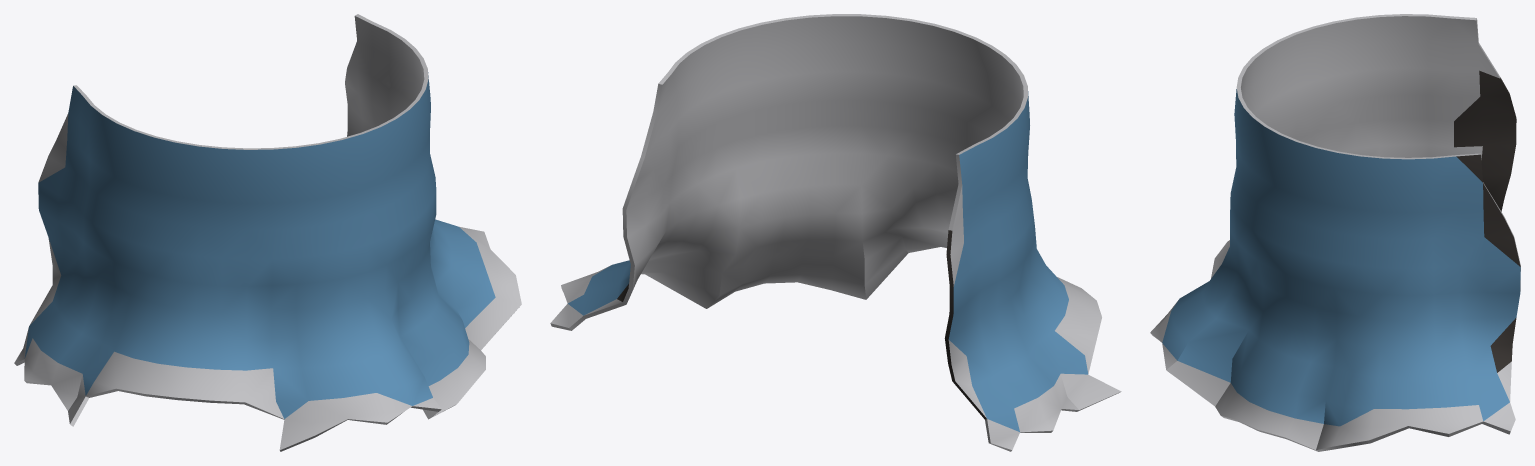
The model's file is Debris_BarrelHalf_B.fbx.
The picture shows the model from 3 angles, left to right: view 1: azimuth 30°, elevation 25°; view 2: azimuth 150°, elevation 25°; view 3: azimuth 270°, elevation 25°; orthographic projection. The views are drawn at different scales.
Visible parts, largest first — view 1: Debris_BarrelHalf_B; view 2: Debris_BarrelHalf_B; view 3: Debris_BarrelHalf_B.
Part boxes in pixels (box(x1,y1,x2,y2)): Debris_BarrelHalf_B: box(14, 14, 521, 451); Debris_BarrelHalf_B: box(550, 14, 1121, 451); Debris_BarrelHalf_B: box(1150, 14, 1520, 451).
Size of the model in its own units: 0.8986 by 0.5242 by 0.6204.
